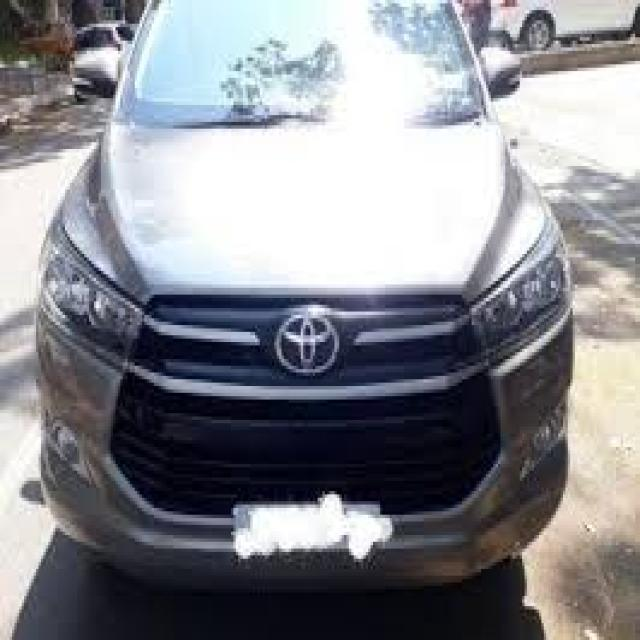light_vehicle: (37, 0, 574, 583)
